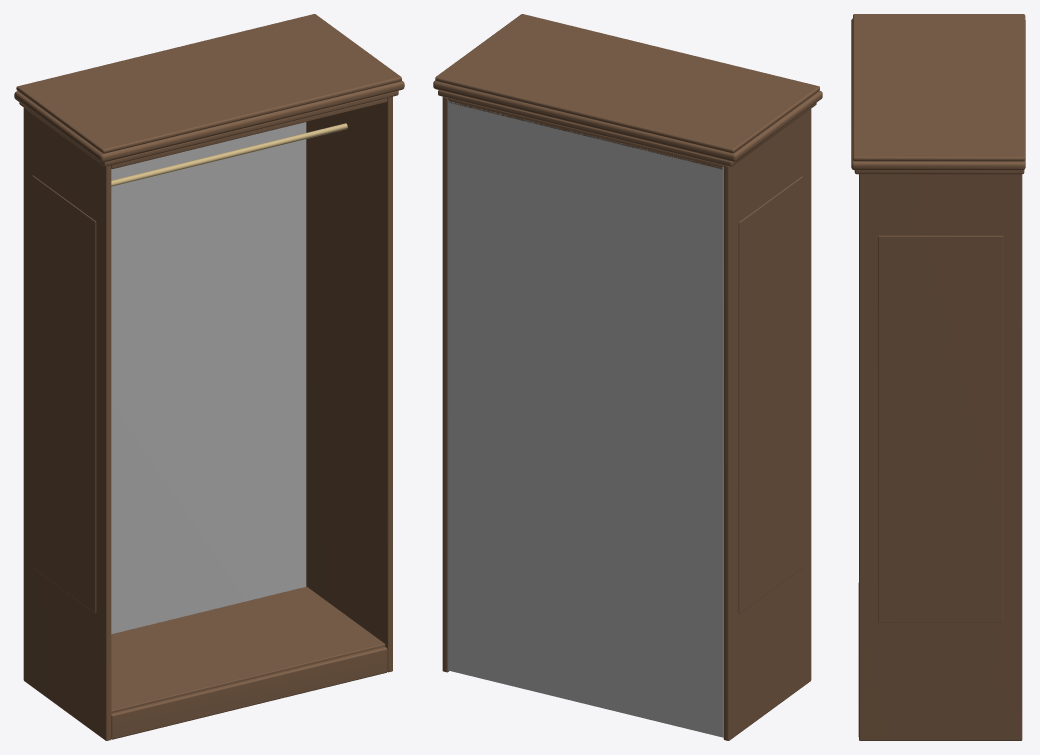
File: lp_cabinet_case_120.glb
The picture shows the model from 3 angles, left to right: view 1: azimuth 30°, elevation 25°; view 2: azimuth 150°, elevation 25°; view 3: azimuth 270°, elevation 25°; orthographic projection.
Visible parts, largest first — view 1: lp_cabinet_case_120; view 2: lp_cabinet_case_120; view 3: lp_cabinet_case_120.
Part boxes in pixels (x1,y1,x2,y2): lp_cabinet_case_120: (14,14,404,740); lp_cabinet_case_120: (433,14,822,740); lp_cabinet_case_120: (851,14,1025,740).
Size of the model in its own units: 1.27 by 2.38 by 0.64.
